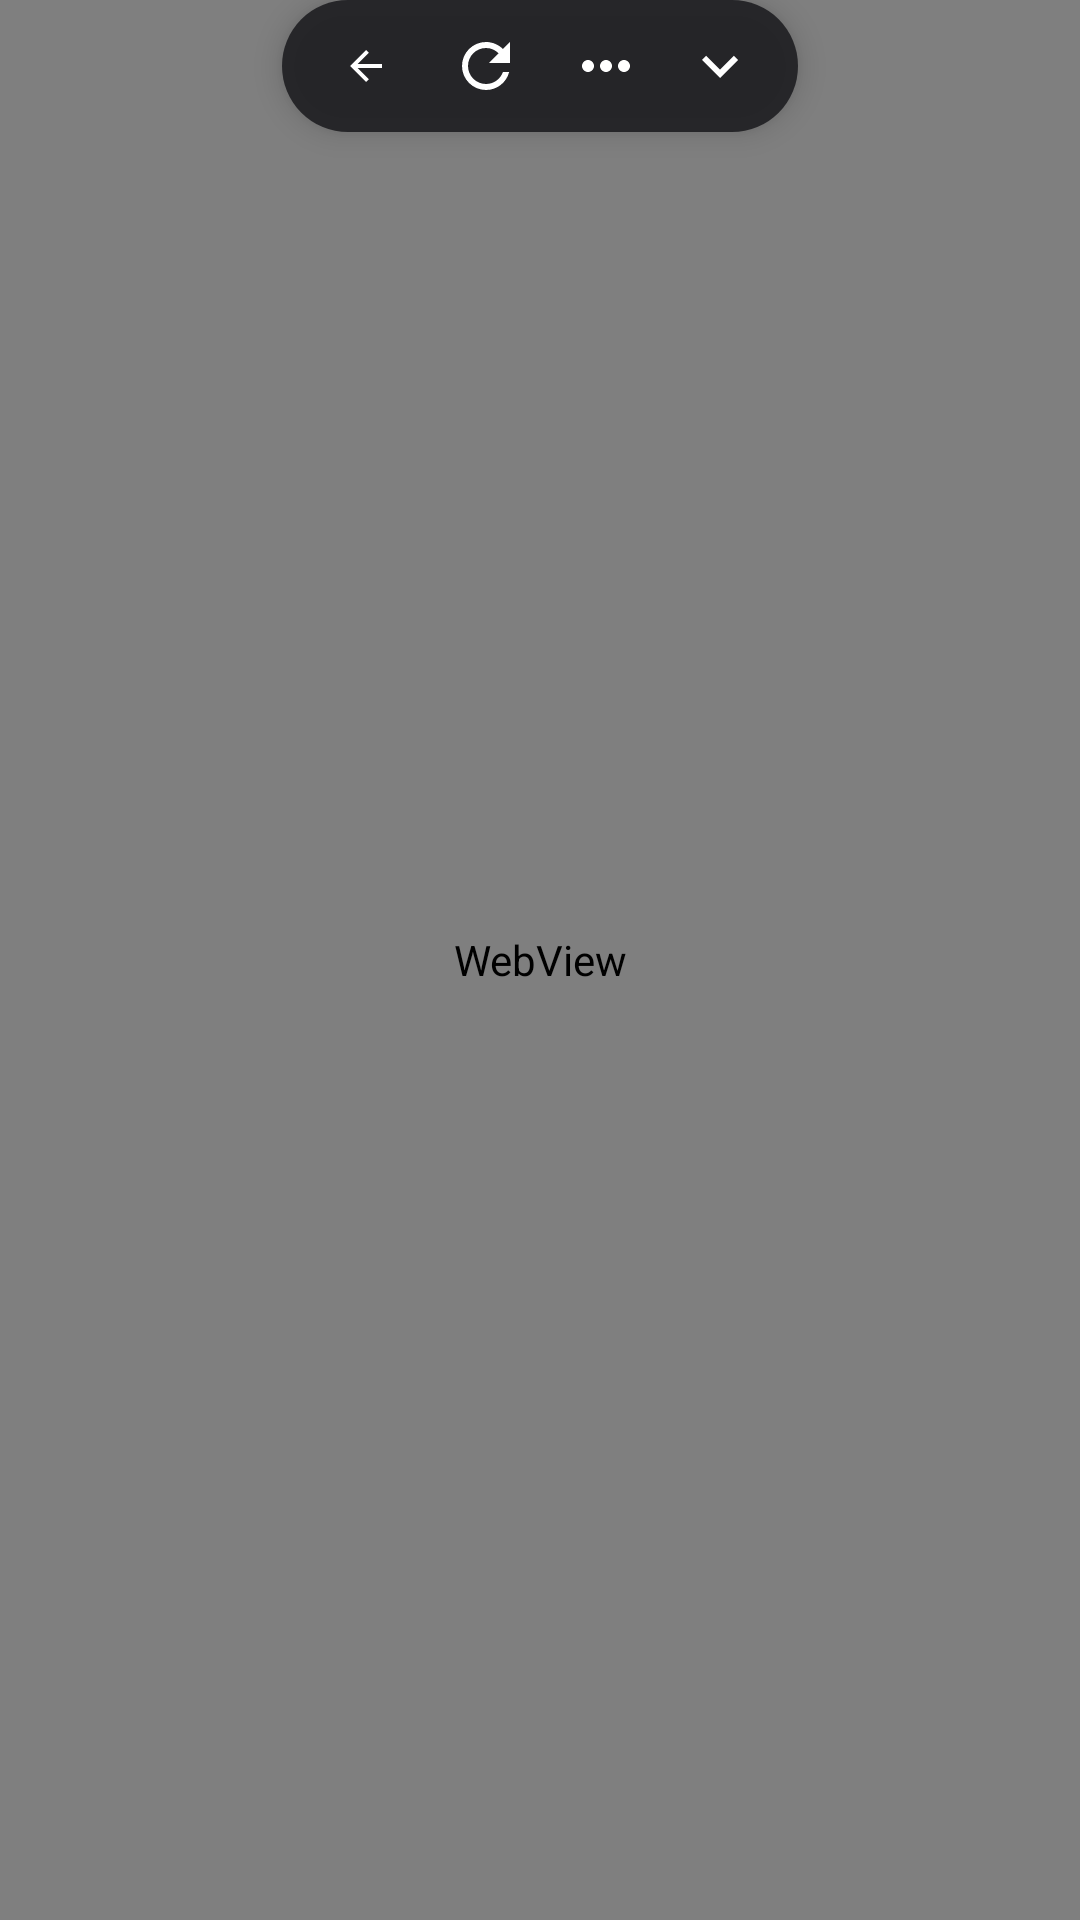

Where to tap for icons on this 1080×1920 app screen, as (x,y):
刷新: (486,66)
收起工具条: (720,67)
更多: (606,66)
返回: (366,66)
